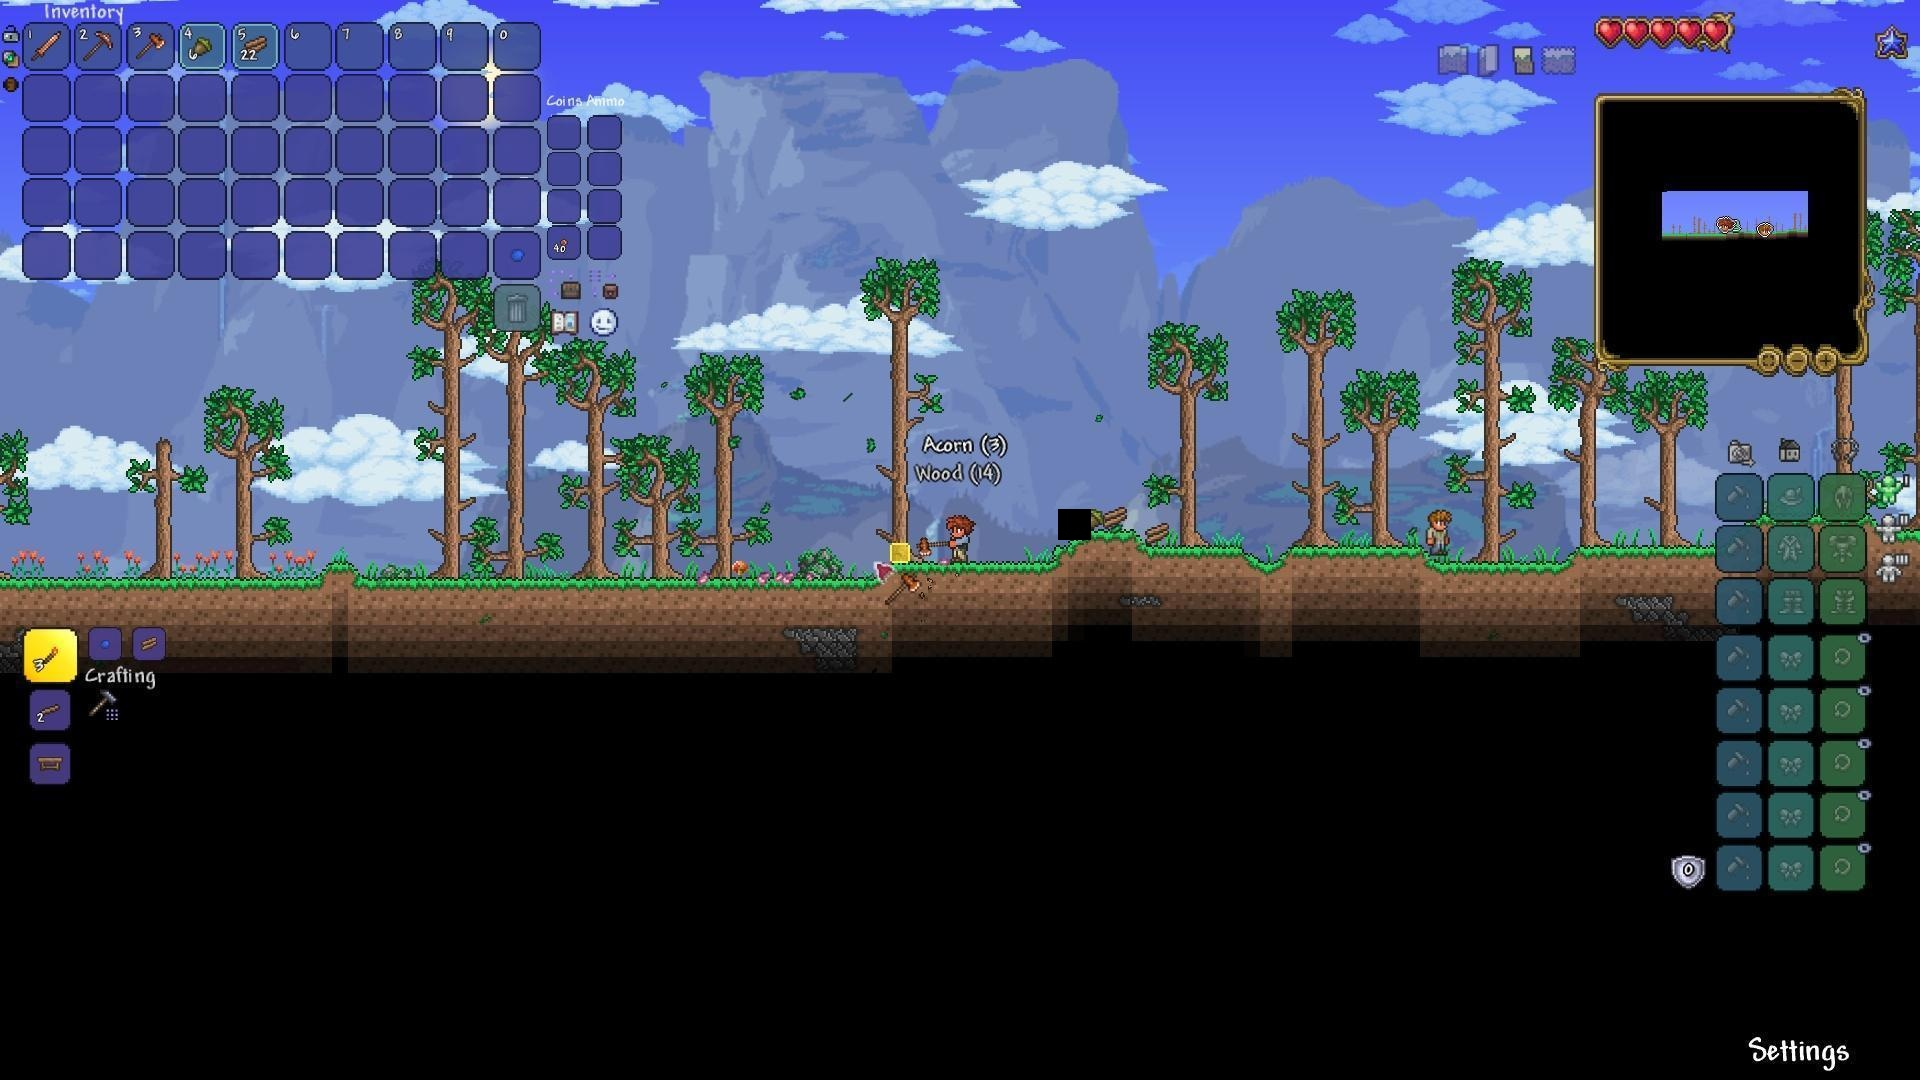wood: (135, 622, 170, 661), (1101, 502, 1134, 533), (1142, 520, 1174, 550), (239, 36, 272, 65)
workbench: (33, 750, 70, 775)
